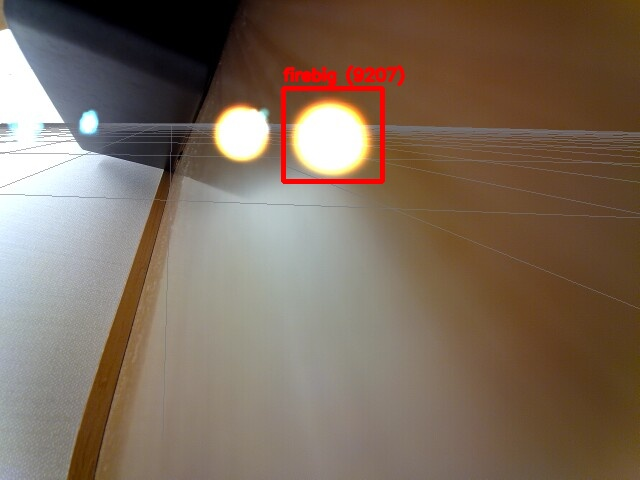firebig: (283, 88, 382, 181)
